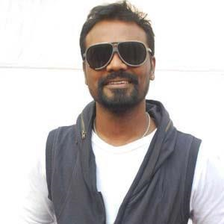no_mask: (81, 27, 153, 107)
